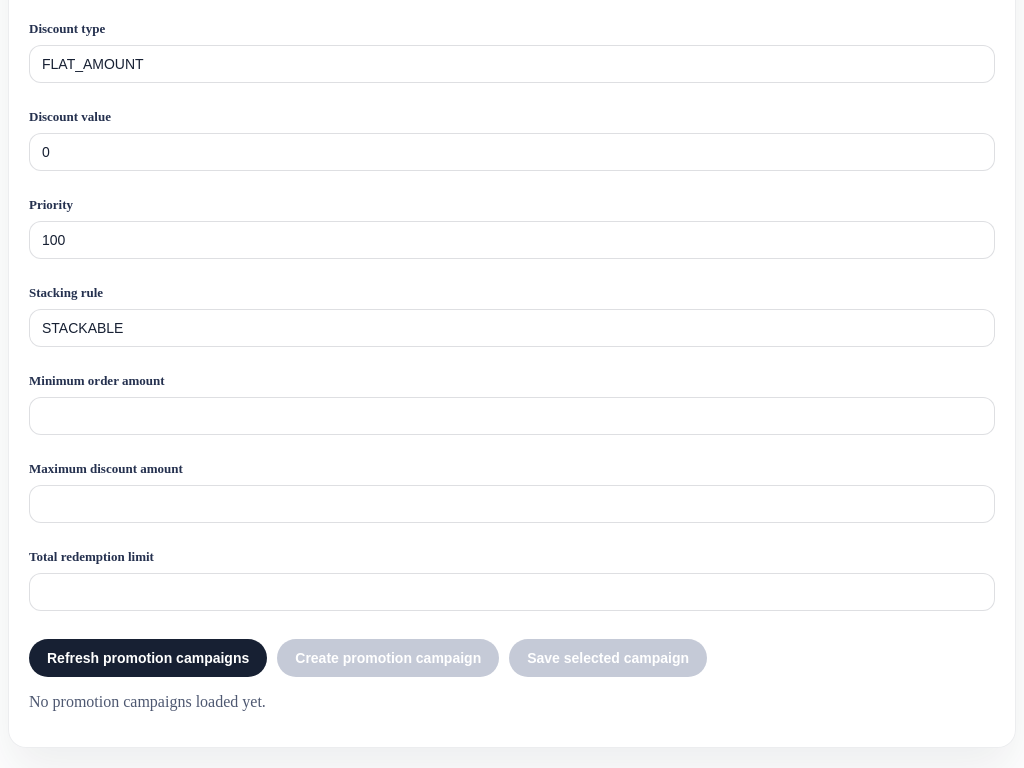
Scenario: owner promotion campaign section › loads campaigns and creates a shared code under the selected campaign
The image size is (1024, 768).
(page scrolled)
Click the button "Refresh promotion campaigns" at (148, 658), box [29,639,267,677]
(page scrolled)
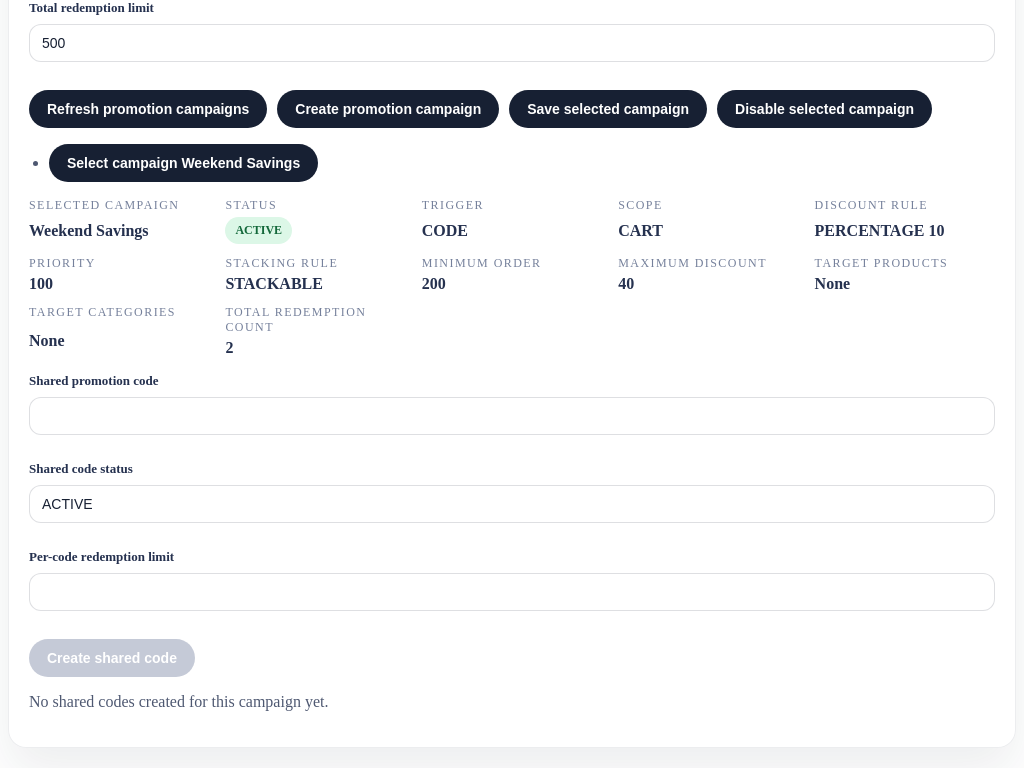
Result: the text "Weekend Savings" is shown at [29,222,149,238]
Type "WEEKEND10" into the field labelled "Shared promotion code" at (512, 416), box [29,397,995,435]
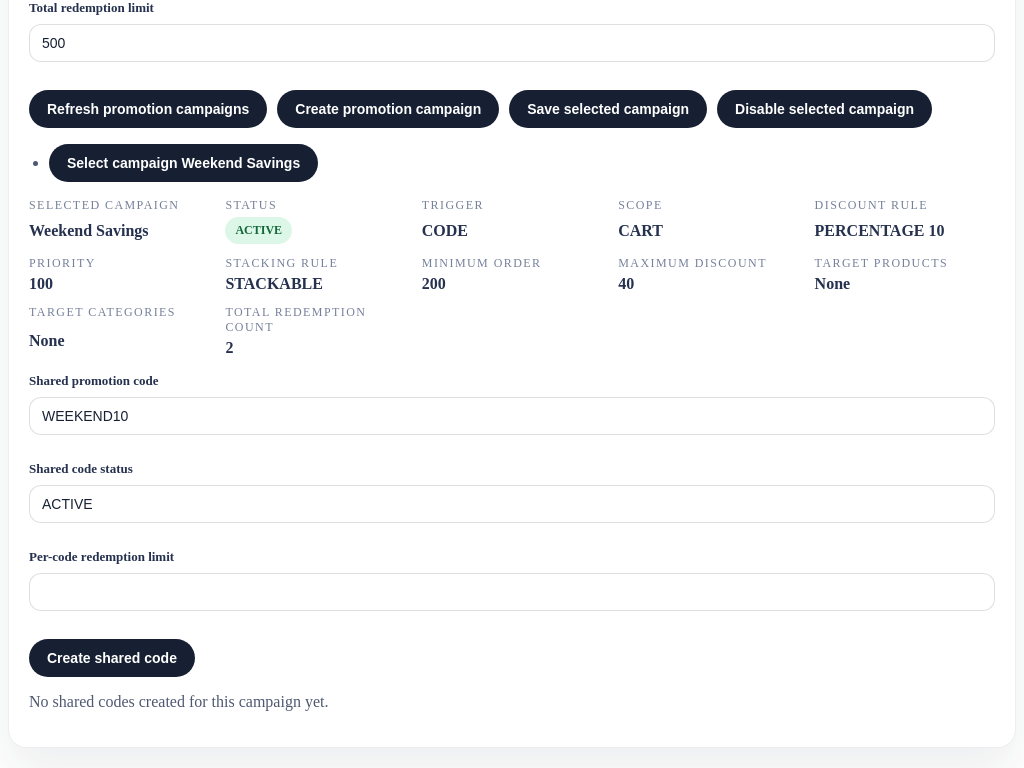
Type "100" into the field labelled "Per-code redemption limit" at (512, 592), box [29,573,995,611]
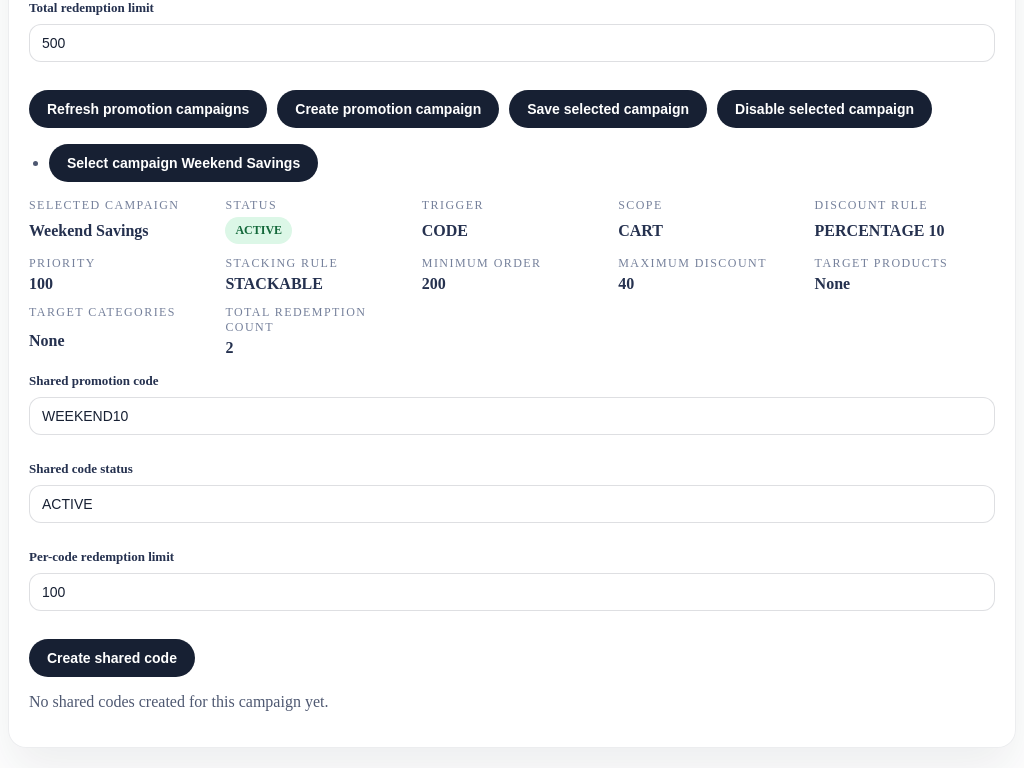
Click the button "Create shared code" at (112, 658), box [29,639,195,677]
(page scrolled)
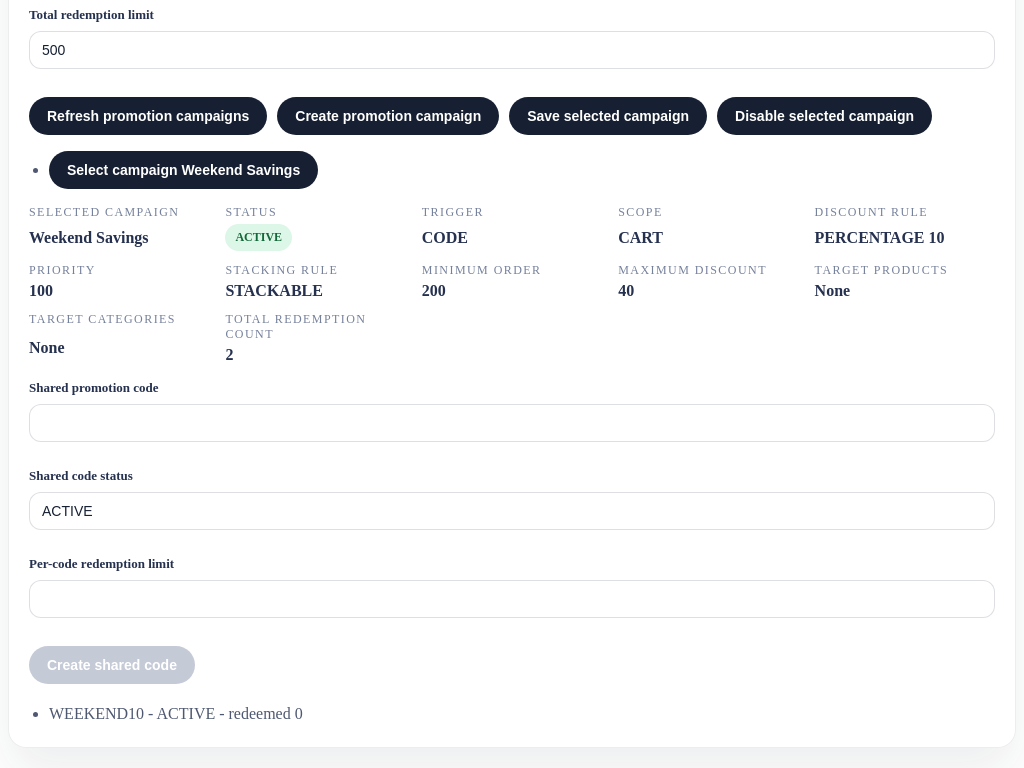
Result: the list item "WEEKEND10 - ACTIVE - redeemed 0" is shown at [49,705,303,722]
